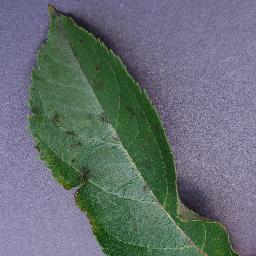apple healthy: (26, 2, 249, 255)
